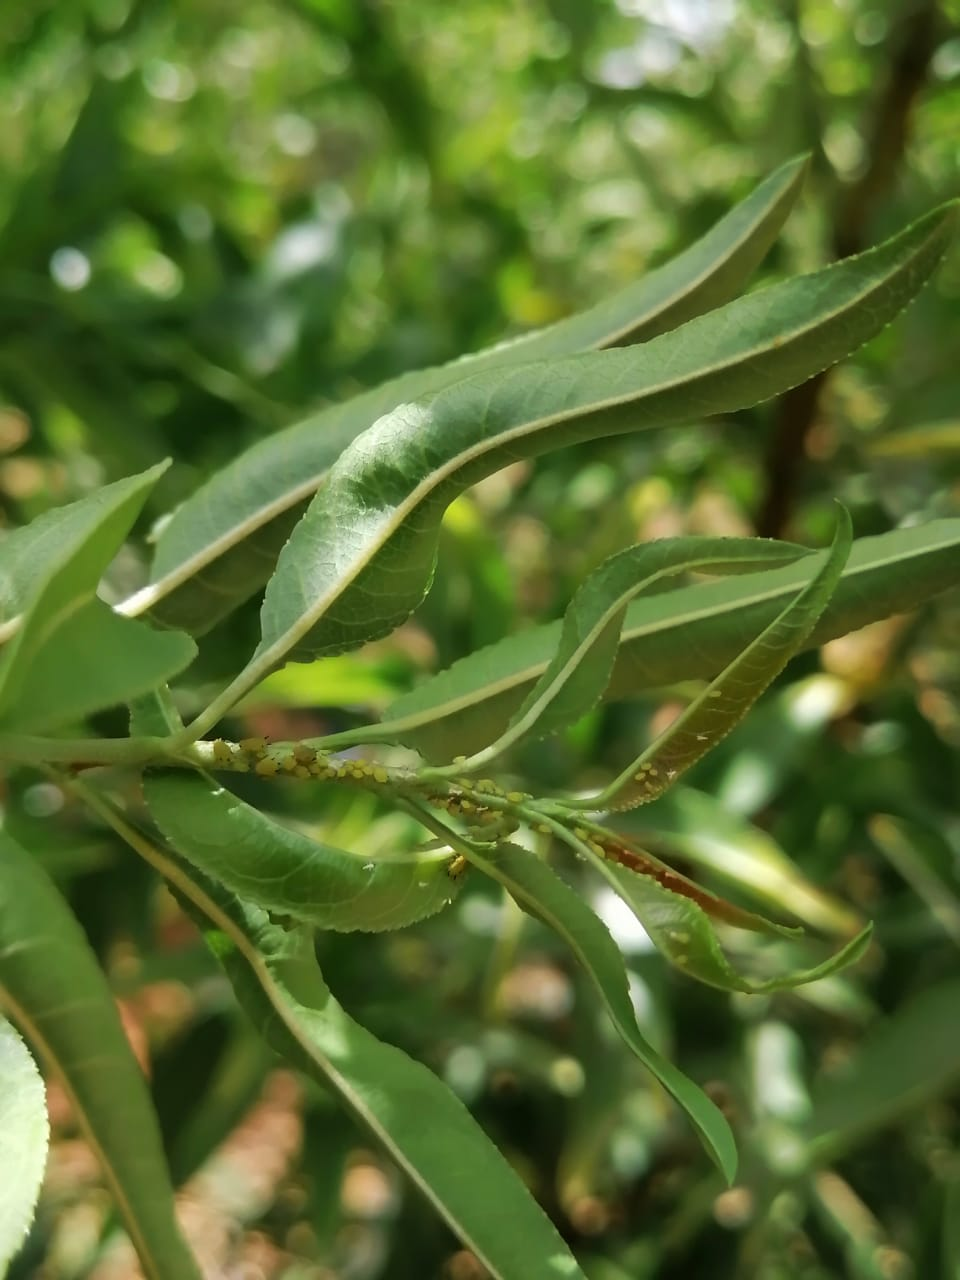chancre fusicocum: (356, 610, 652, 850)
